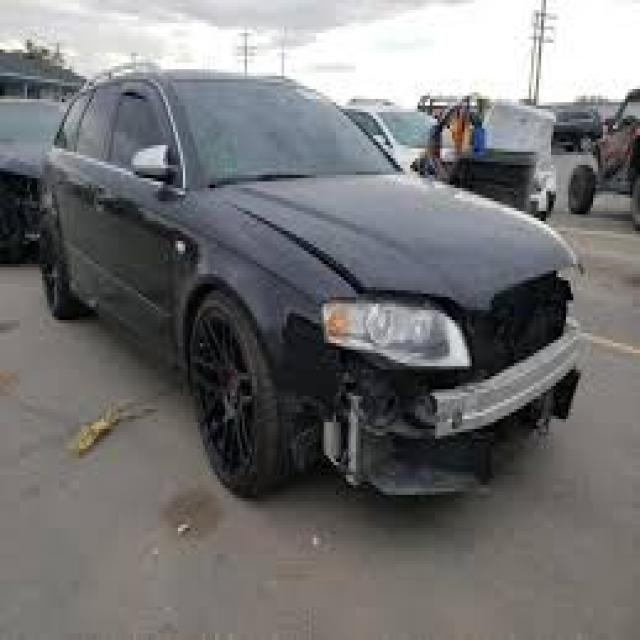moderate: (233, 181, 640, 581)
